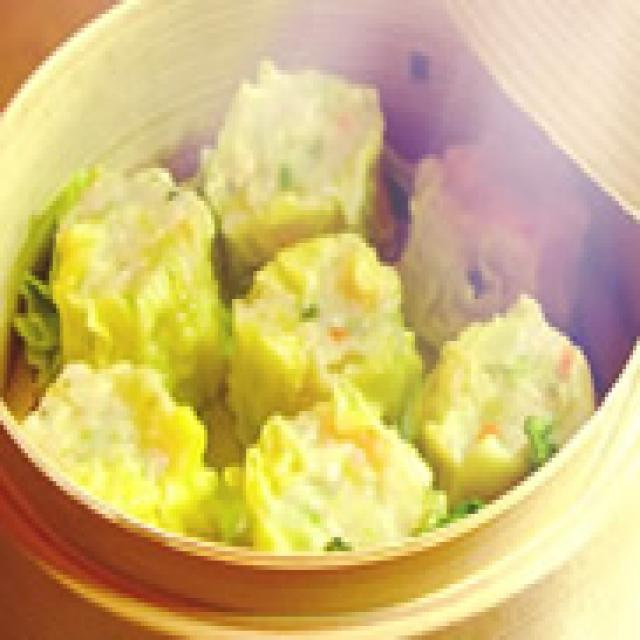带馅早点: (43, 65, 602, 528)
